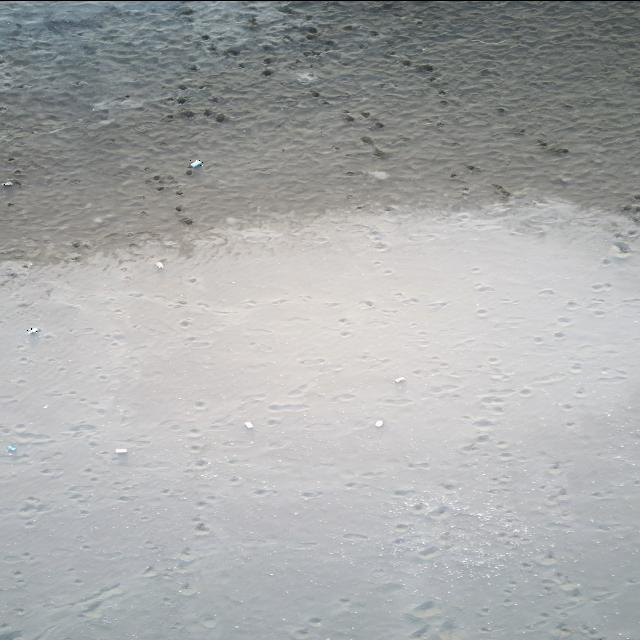Garbage: (611, 240, 630, 256), (296, 71, 316, 83), (367, 169, 386, 179), (115, 447, 127, 455), (191, 159, 203, 167), (7, 444, 16, 453), (394, 375, 404, 383), (27, 327, 39, 333), (373, 420, 383, 427), (155, 260, 163, 268), (4, 180, 13, 187), (244, 420, 253, 427)
